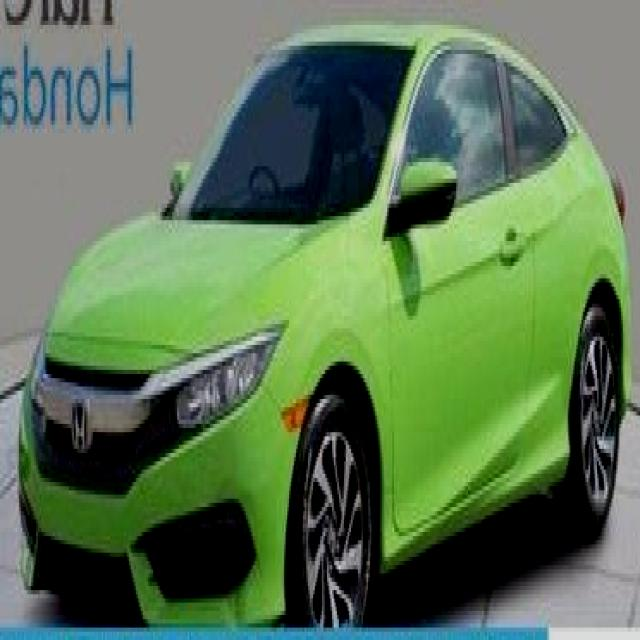green: (12, 24, 628, 632)
